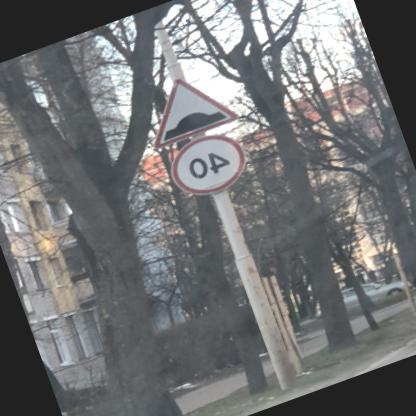speedlimit: (166, 123, 256, 201)
